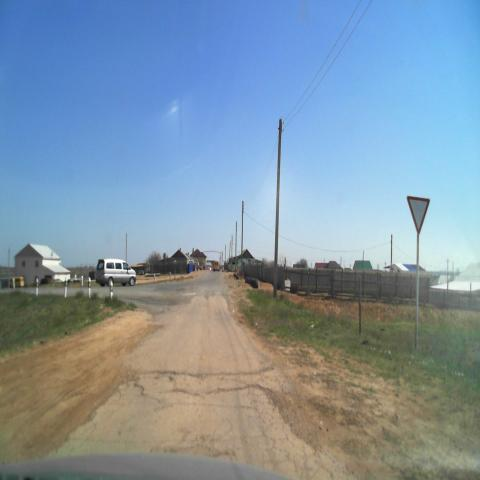2_4: (406, 195, 430, 232)
